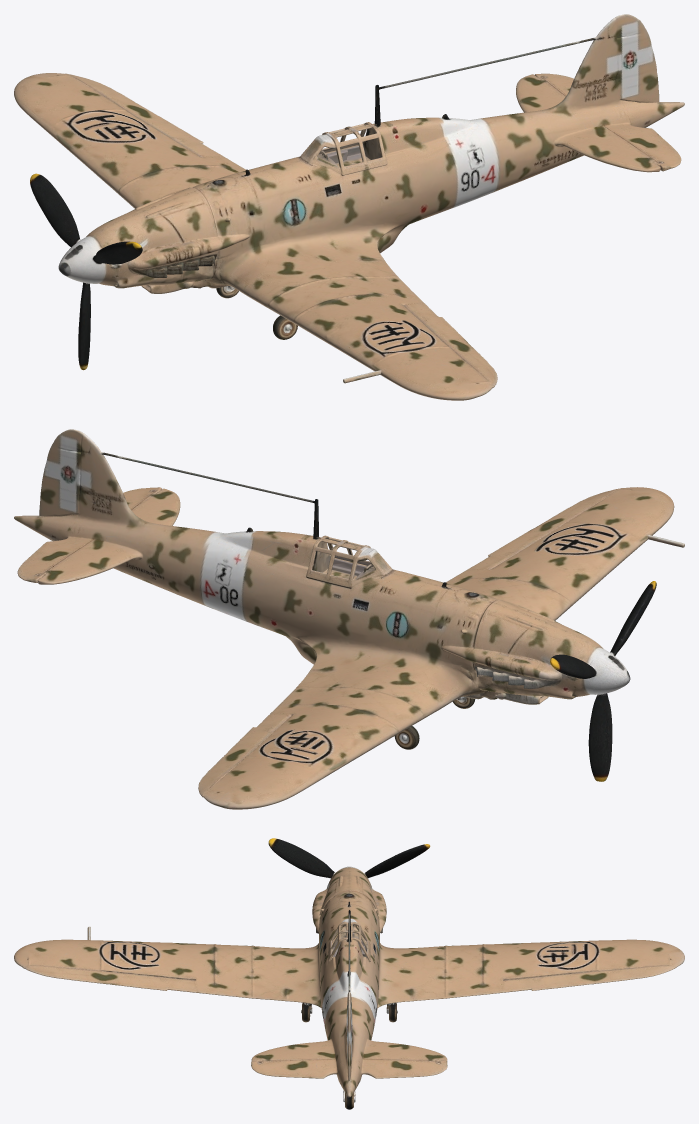
The model's file is macchi_c202.obj.
3 renders of one model, top to bottom at view 1: azimuth 30°, elevation 25°; view 2: azimuth 150°, elevation 25°; view 3: azimuth 270°, elevation 25°, orthographic. The views are drawn at different scales.
Parts seen in each view (by area): view 1: Macchi_C202_Folgore; view 2: Macchi_C202_Folgore; view 3: Macchi_C202_Folgore.
Part boxes in pixels (<box>): Macchi_C202_Folgore: <box>14,14,684,400</box>; Macchi_C202_Folgore: <box>14,429,684,809</box>; Macchi_C202_Folgore: <box>14,838,684,1109</box>.
Bounding box in the file's own units: 1.57 × 0.538 × 1.9.
Materials: 1 (1 with a texture image).
